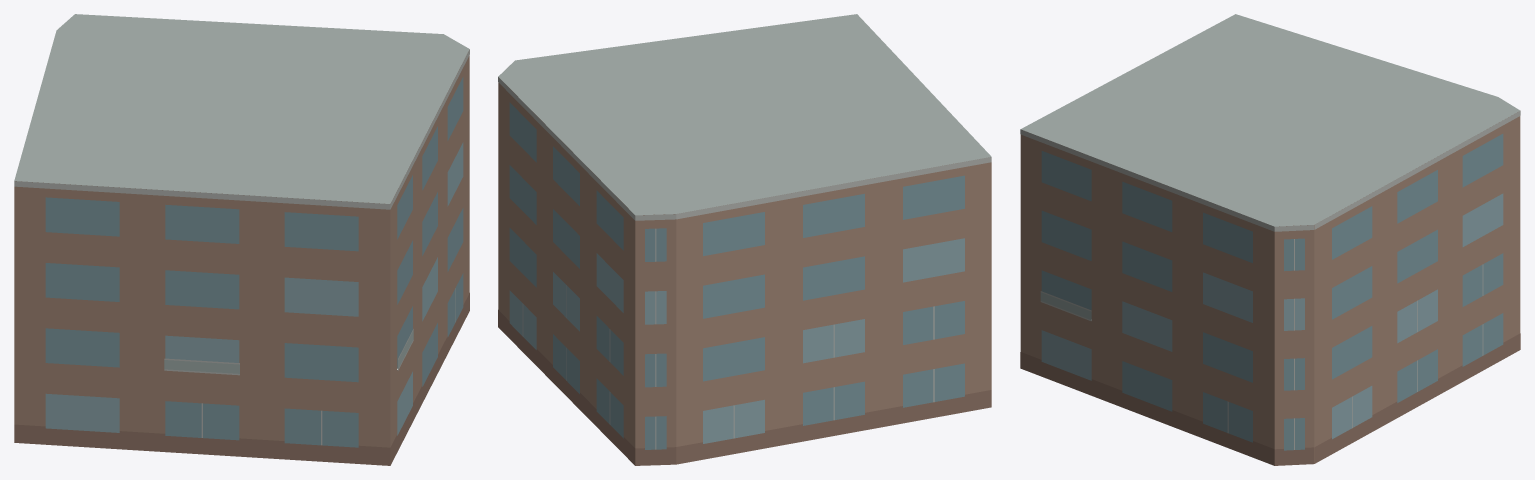
File: survey-upis-32779690.glb
3 views of the same model, side by side, from view 1: azimuth 30°, elevation 25°; view 2: azimuth 150°, elevation 25°; view 3: azimuth 270°, elevation 25° (orthographic). The views are drawn at different scales.
Parts seen in each view (by area): view 1: survey-upis-32779690.tmp; view 2: survey-upis-32779690.tmp; view 3: survey-upis-32779690.tmp.
Boxes of the visible parts, x1,y1,x2,y2 form: survey-upis-32779690.tmp: (14, 14, 469, 465); survey-upis-32779690.tmp: (498, 14, 991, 465); survey-upis-32779690.tmp: (1020, 14, 1520, 465).
Size of the model in its own units: 21.55 by 11.3 by 21.41.
